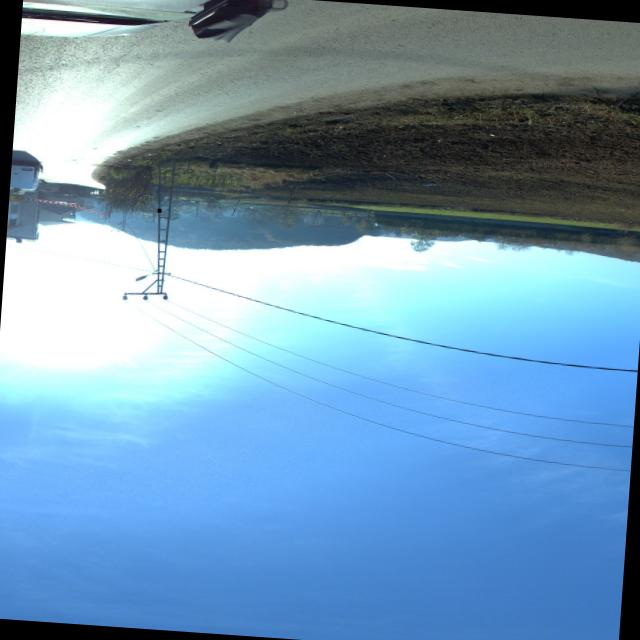Utility Pole Information Plate: (156, 207, 160, 211)
